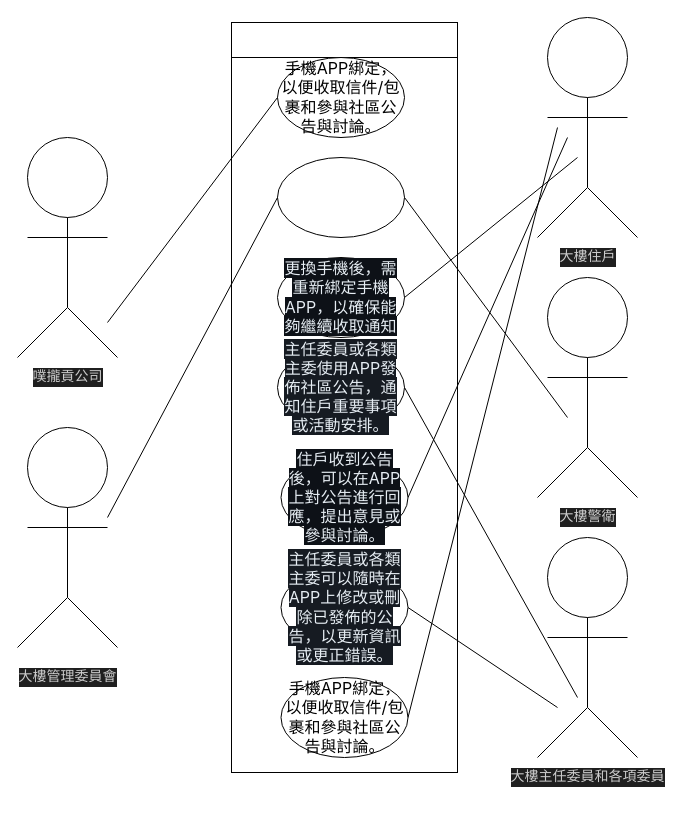
Image size: 682x815. Some labels were removed from this diagram. The shapes that lost their labels are listed below. From the top down, each one's centre as x and y in pixels, then its label:
At (344,40): "社區APP".
At (340,197): "警衛收到郵差或貨運公司送達的信件/包裹，進行簽收並通知住戶收件。".
